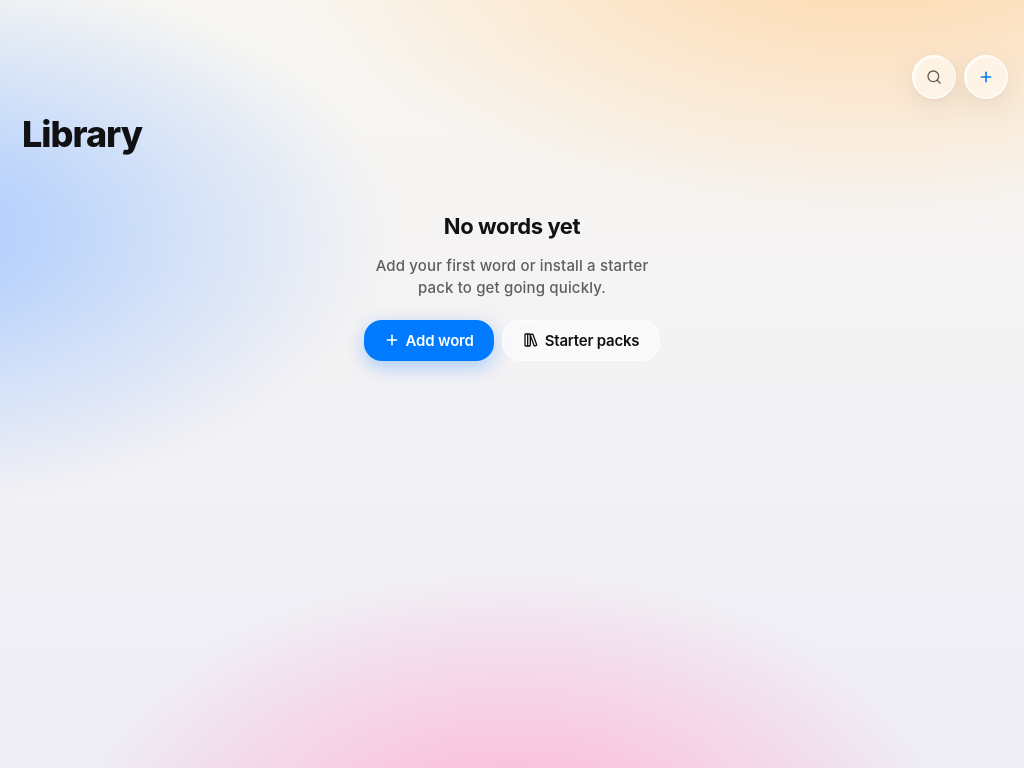
LibraryScreen › Add word flow › should open AddWordModal from empty state button
The width and height of the screenshot is (1024, 768).
Check: the text "No words yet" is shown, box x1=444 y1=210 x2=580 y2=243
Click the button "Add word". click: (429,340)
box: x1=364 y1=320 x2=494 y2=361
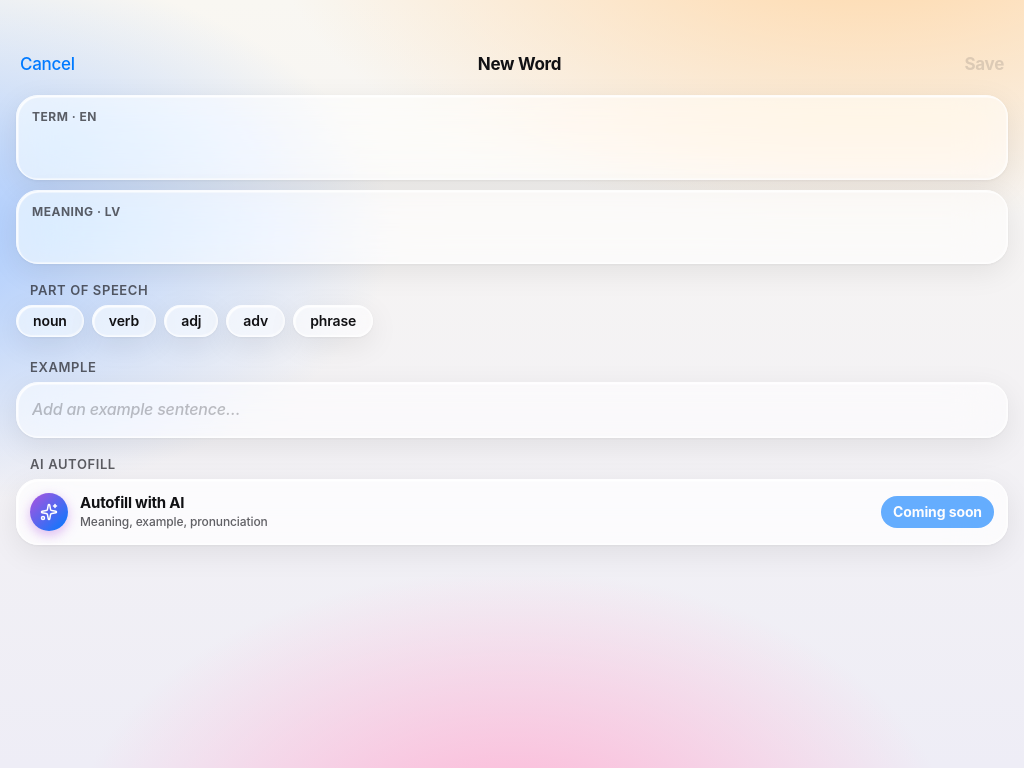
Check: the heading "New Word" is shown, box x1=478 y1=56 x2=561 y2=73
